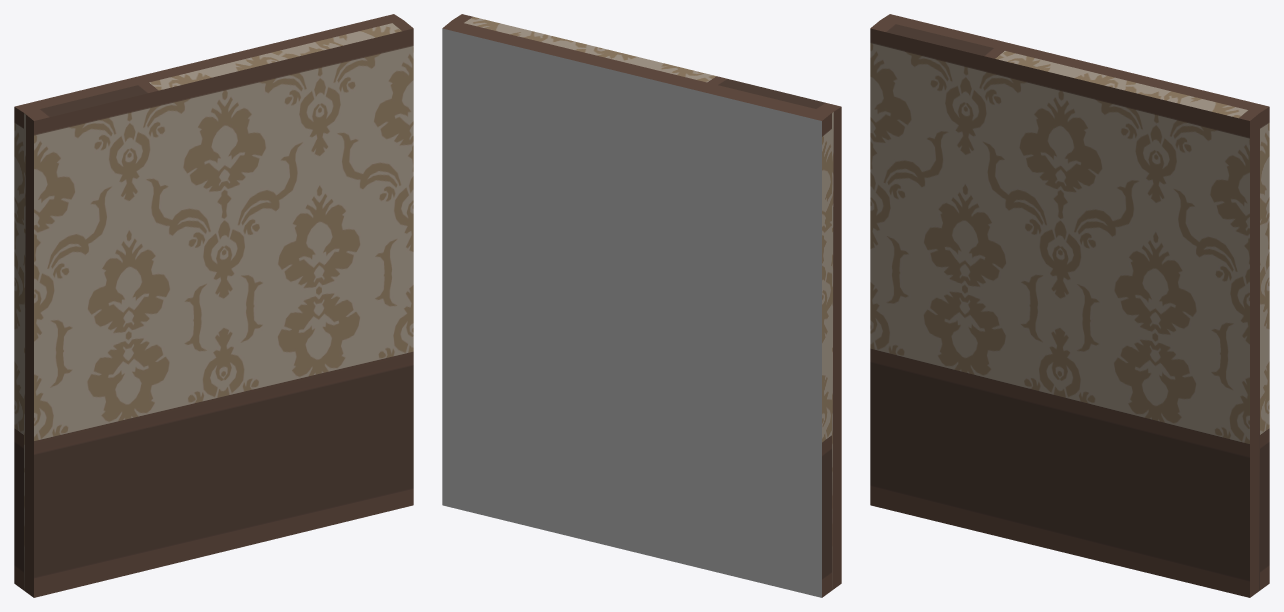
Rendered from WALL INTERIOR 3.fbx.
3 views of the same model, side by side, from view 1: azimuth 30°, elevation 25°; view 2: azimuth 150°, elevation 25°; view 3: azimuth 330°, elevation 25° (orthographic).
Visible parts, largest first — view 1: WallInterior3; view 2: WallInterior3; view 3: WallInterior3.
Boxes of the visible parts, x1=… form: WallInterior3: x1=14, y1=14, x2=413, y2=597; WallInterior3: x1=442, y1=14, x2=841, y2=597; WallInterior3: x1=870, y1=14, x2=1269, y2=597.
Size of the model in its own units: 250 by 301 by 22.5.
